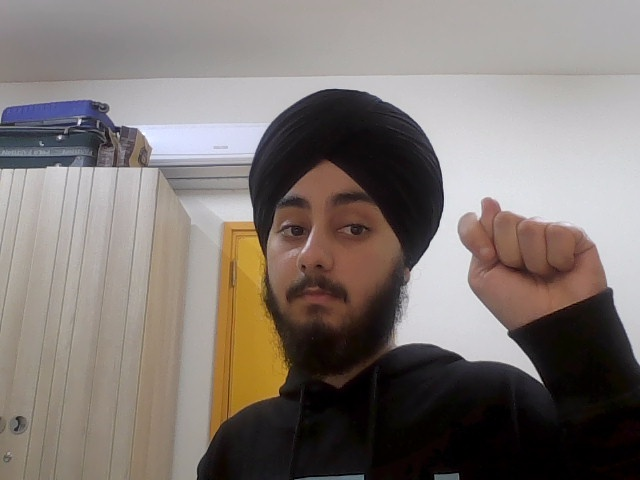Bathroom: (455, 193, 611, 326)
